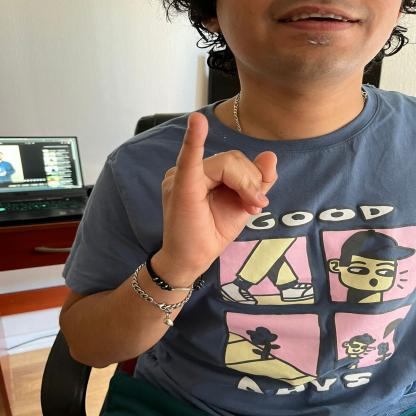I: (151, 107, 286, 258)
